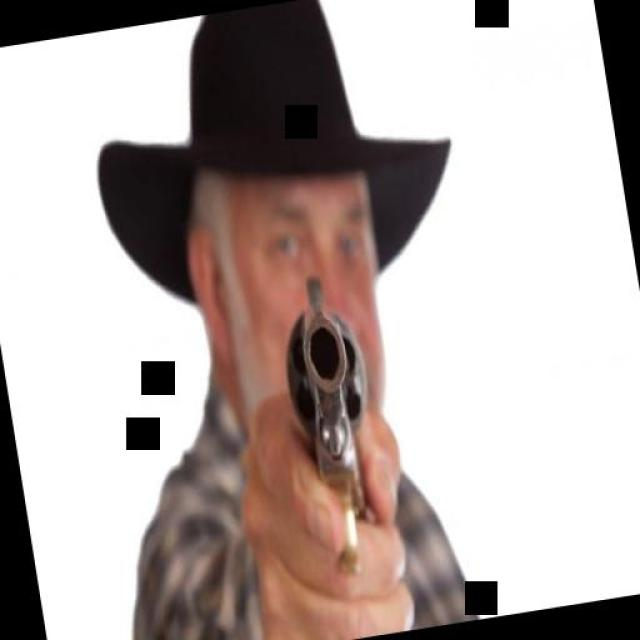gun: (269, 260, 396, 575)
